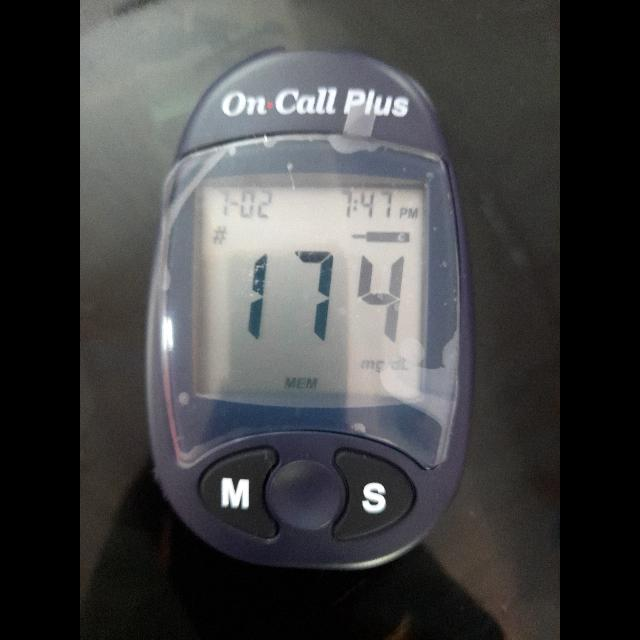Glucose-Meter: (142, 48, 474, 568)
